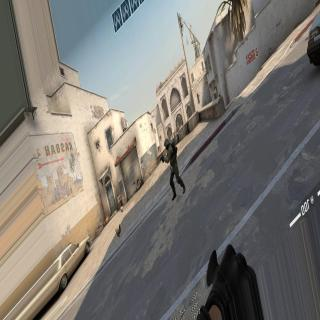CT-Body: (161, 137, 186, 195)
CT-Head: (164, 137, 170, 149)
